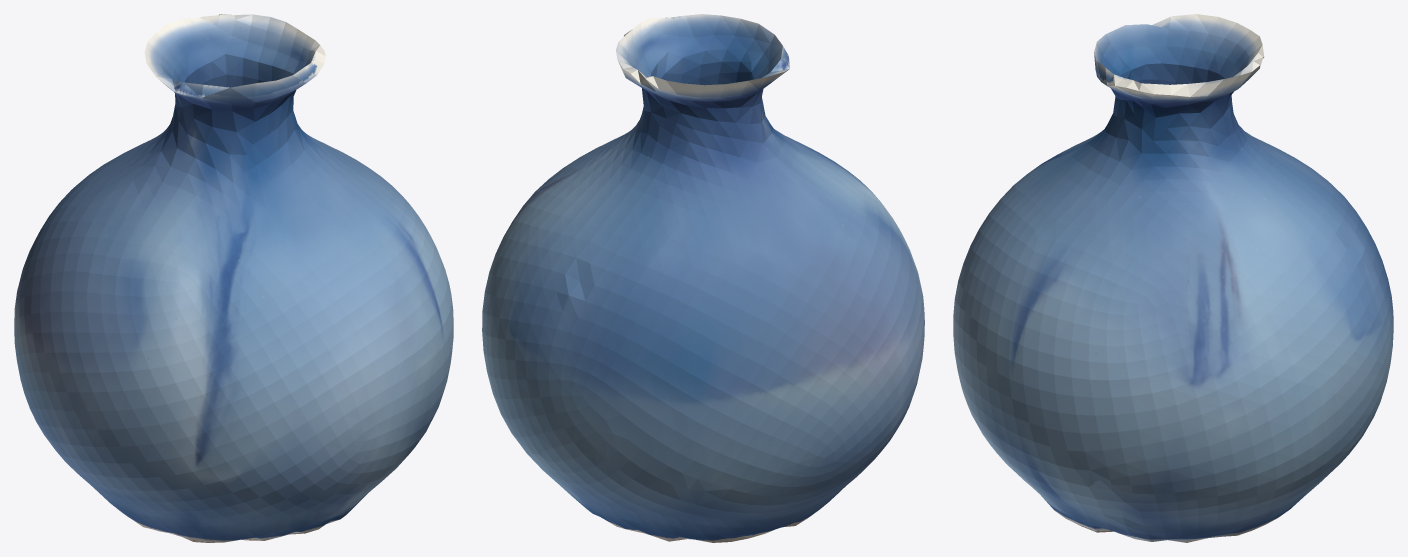
File: webxr.glb
3 renders of one model, left to right at view 1: azimuth 30°, elevation 25°; view 2: azimuth 150°, elevation 25°; view 3: azimuth 270°, elevation 25°, orthographic.
Visible parts, largest first — view 1: geometry_0; view 2: geometry_0; view 3: geometry_0.
Part boxes in pixels (bbox=[...]): geometry_0: bbox=[14, 14, 453, 542]; geometry_0: bbox=[482, 14, 924, 542]; geometry_0: bbox=[953, 14, 1393, 542].
Bounding box in the file's own units: 0.9002 × 1.01 × 0.9002.
Materials: 1 (1 with a texture image).
